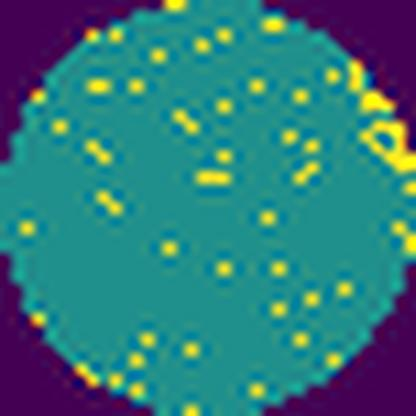Edge-Loc: (344, 59, 416, 176)
